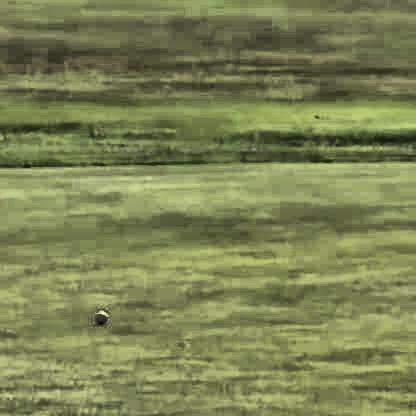golfball: (93, 303, 104, 321)
